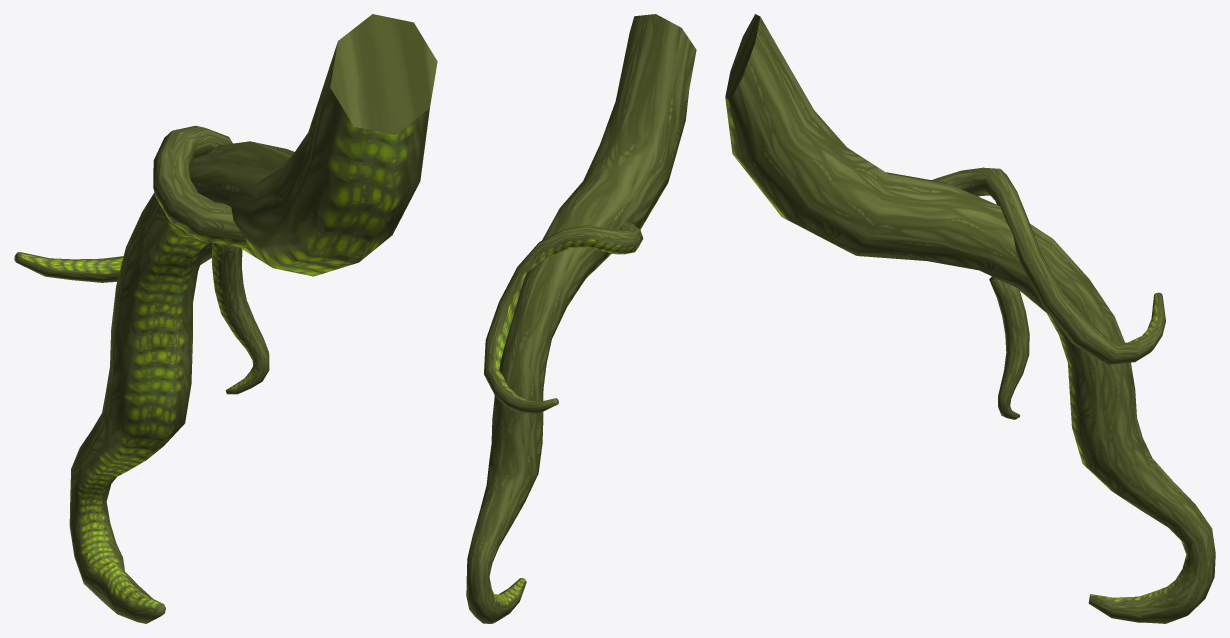
File: tt_forest_root09.FBX
3 views of the same model, side by side, from view 1: azimuth 30°, elevation 25°; view 2: azimuth 150°, elevation 25°; view 3: azimuth 270°, elevation 25° (orthographic). The views are drawn at different scales.
Parts seen in each view (by area): view 1: tt_forest_root09; view 2: tt_forest_root09; view 3: tt_forest_root09.
Boxes of the visible parts, box(x1,y1,x2,y2) form: tt_forest_root09: box(14, 14, 437, 623); tt_forest_root09: box(466, 14, 696, 623); tt_forest_root09: box(725, 14, 1215, 623).
Size of the model in its own units: 177 by 811 by 594.
